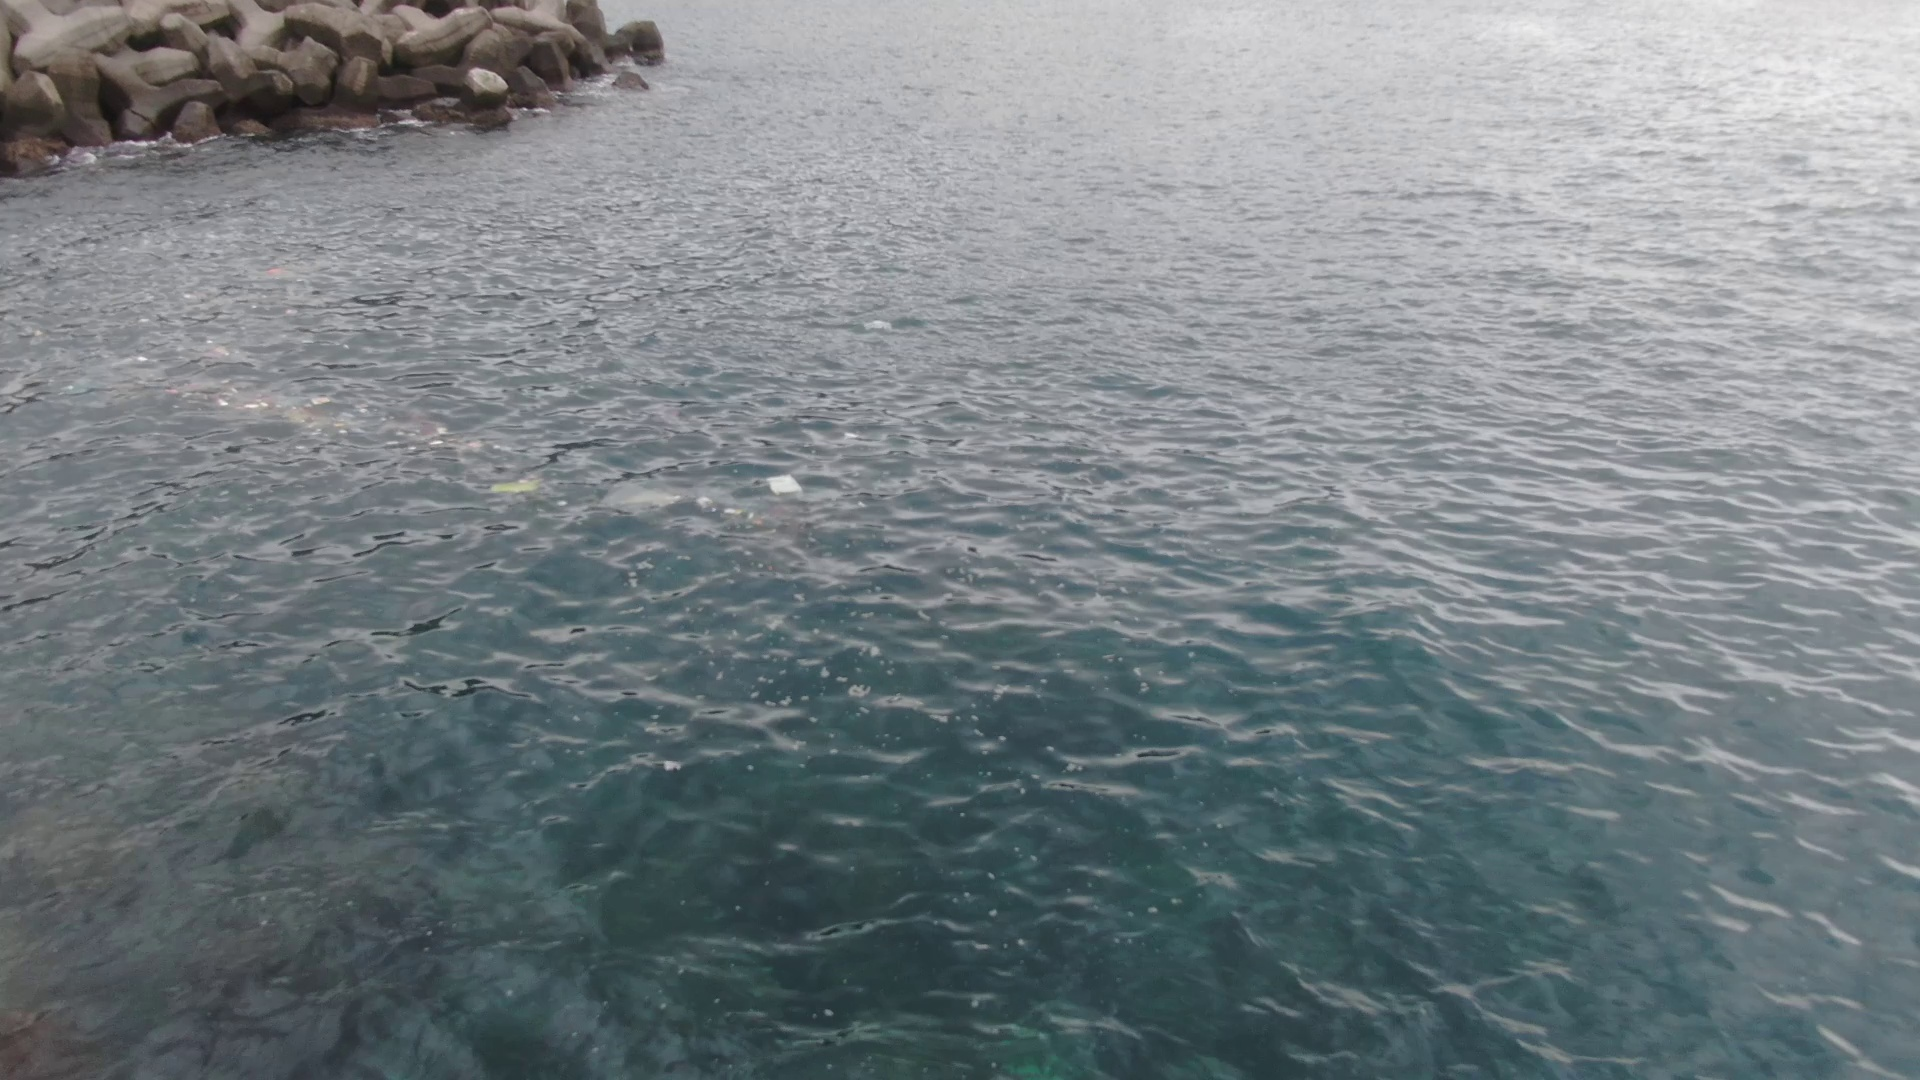garbage: (762, 465, 807, 502), (487, 477, 543, 501), (862, 313, 893, 338)
